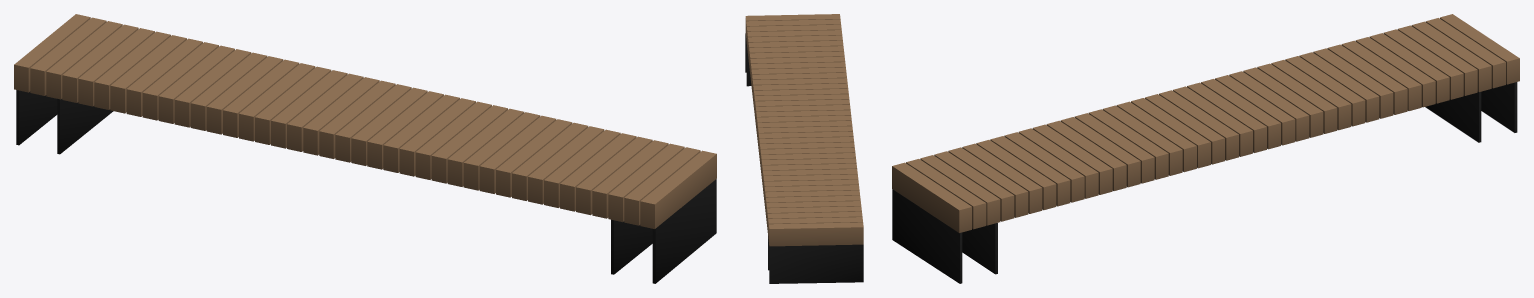
File: bench.fbx
3 views of the same model, side by side, from view 1: azimuth 30°, elevation 25°; view 2: azimuth 150°, elevation 25°; view 3: azimuth 270°, elevation 25° (orthographic). The views are drawn at different scales.
Parts seen in each view (by area): view 1: Cube.659; view 2: Cube.659; view 3: Cube.659.
Boxes of the visible parts, x1,y1,x2,y2 form: Cube.659: (14, 14, 716, 283); Cube.659: (745, 14, 863, 283); Cube.659: (892, 14, 1519, 283).
Size of the model in its own units: 424 by 74.06 by 573.
